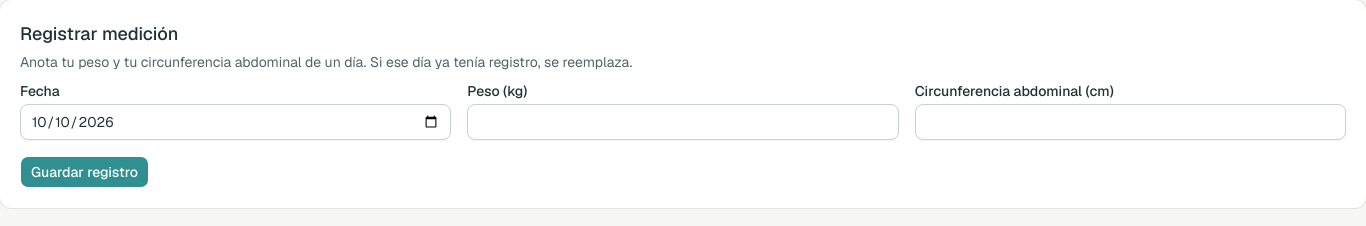
MeasurementForm › confirms the save and clears the metric fields on success
The image size is (1366, 226).
Type "80,1" into the field labelled "Peso (kg)".
click(683, 122); type("80,1")  # box [467,104,899,140]
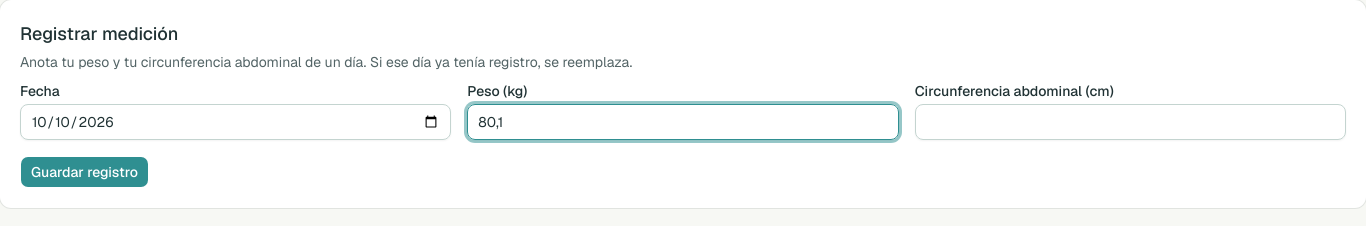
Type "94,8" into the field labelled "Circunferencia abdominal (cm)".
click(1130, 122); type("94,8")  # box [915,104,1346,140]
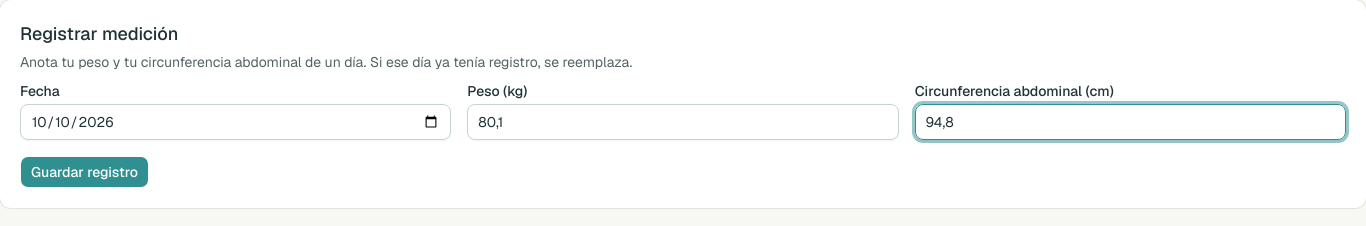
Click the button "Guardar registro".
click(84, 172)  # box [20,156,149,188]
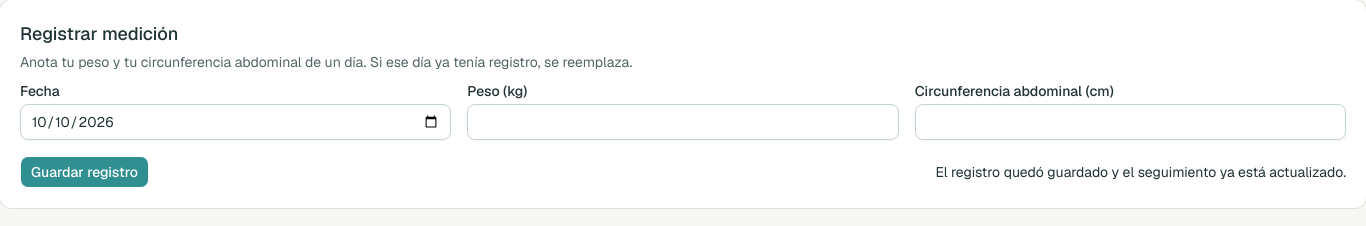
expect the text "El registro quedó guardado y el seguimiento ya está actualizado." is shown: met, box [935,162,1346,182]
expect the field labelled "Peso (kg)" is empty: met, box [467,104,899,140]
expect the field labelled "Circunferencia abdominal (cm)" is empty: met, box [915,104,1346,140]
